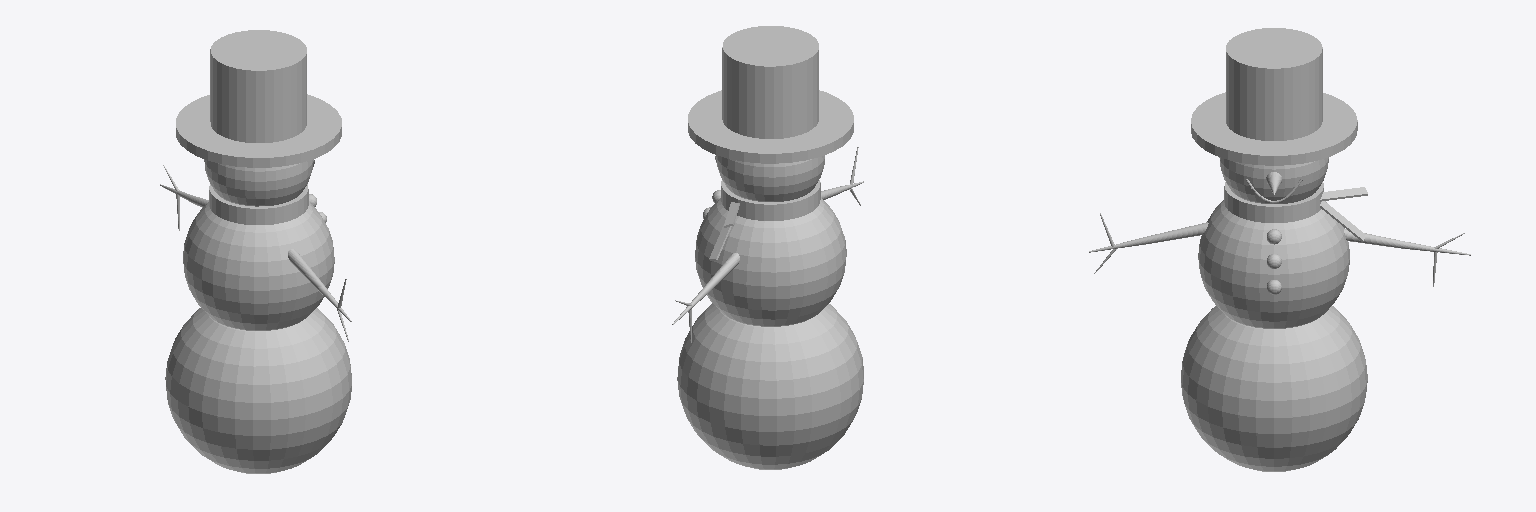
The model's file is snowman.obj.
3 views of the same model, side by side, from view 1: azimuth 30°, elevation 25°; view 2: azimuth 150°, elevation 25°; view 3: azimuth 270°, elevation 25° (orthographic).
Parts seen in each view (by area): view 1: Sphere, Cylinder, Sphere.001, Sphere.002, Cylinder.007, Cylinder.005; view 2: Sphere, Cylinder, Sphere.001, Sphere.002, Cylinder.007, Cylinder.005; view 3: Sphere, Cylinder, Sphere.001, Sphere.002, Cylinder.007, Cylinder.005, Sphere.003.
Boxes of the visible parts, <box> form: Sphere: <box>165,308,351,473</box>; Cylinder: <box>176,30,341,167</box>; Sphere.001: <box>183,202,334,330</box>; Sphere.002: <box>204,159,313,206</box>; Cylinder.007: <box>209,184,308,224</box>; Cylinder.005: <box>160,165,351,341</box>; Sphere: <box>677,303,863,469</box>; Cylinder: <box>688,26,853,163</box>; Sphere.001: <box>695,198,846,326</box>; Sphere.002: <box>716,155,824,201</box>; Cylinder.007: <box>709,180,820,260</box>; Cylinder.005: <box>672,147,863,342</box>; Sphere: <box>1181,306,1367,471</box>; Cylinder: <box>1191,28,1357,165</box>; Sphere.001: <box>1198,200,1349,328</box>; Sphere.002: <box>1219,157,1328,203</box>; Cylinder.007: <box>1224,182,1367,241</box>; Cylinder.005: <box>1089,213,1470,286</box>; Sphere.003: <box>1267,229,1281,294</box>.
Bounding box in the file's own units: 4.83 × 11.81 × 9.84.